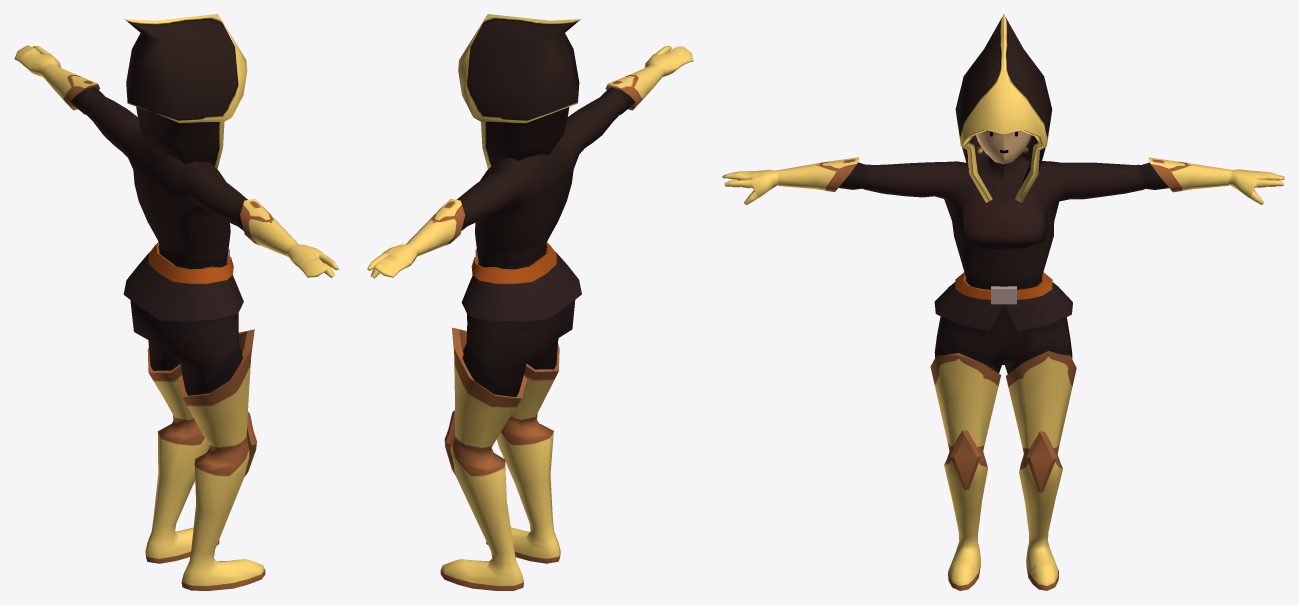
File: kE8T3TUWQv.fbx
3 views of the same model, side by side, from view 1: azimuth 30°, elevation 25°; view 2: azimuth 150°, elevation 25°; view 3: azimuth 270°, elevation 25° (orthographic). The views are drawn at different scales.
Visible parts, largest first — view 1: mesh_char_057; view 2: mesh_char_057; view 3: mesh_char_057.
Part boxes in pixels (x1,y1,x2,y2): mesh_char_057: (14,14,338,590); mesh_char_057: (367,14,693,590); mesh_char_057: (722,14,1284,590).
Bounding box in the file's own units: 0.9777 × 4.34 × 4.22.
Materials: 1 (1 with a texture image).
